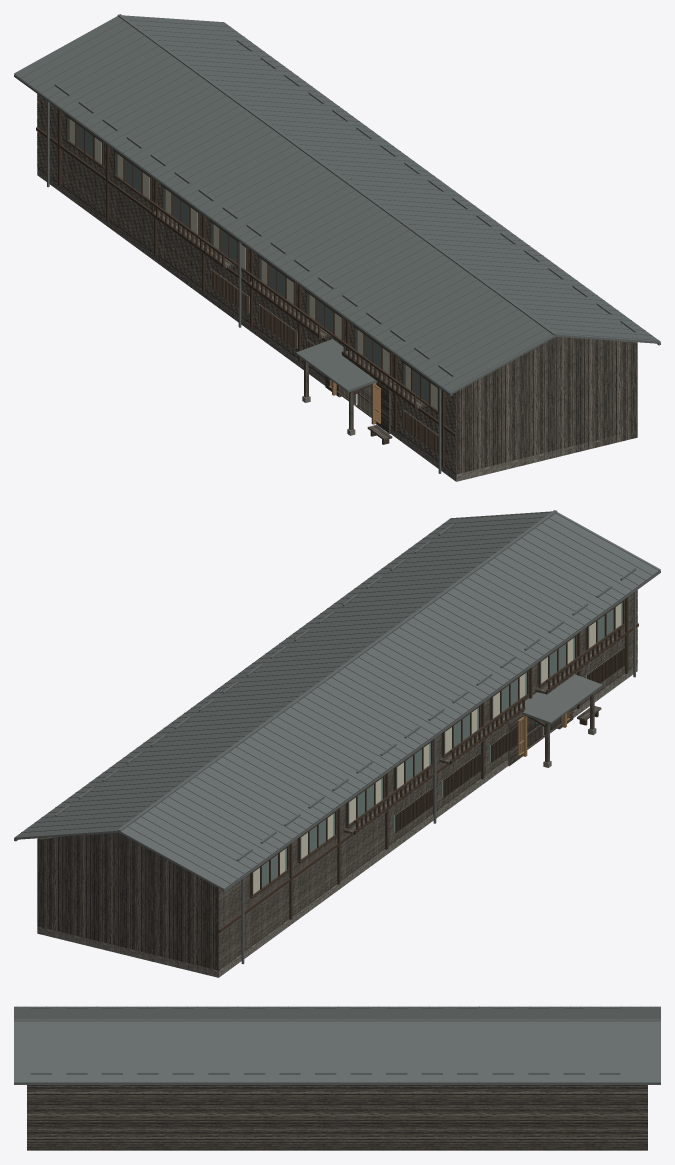
Rendered from onsen-v2.glb.
3 renders of one model, top to bottom at view 1: azimuth 30°, elevation 25°; view 2: azimuth 150°, elevation 25°; view 3: azimuth 270°, elevation 25°, orthographic. The views are drawn at different scales.
Visible parts, largest first — view 1: onsen_Onsen weathered sheet metal.006, onsen_Onsen horizontal cedar.006, onsen_Dark structural timber.024, onsen_Foundation granite.024, onsen_Onsen smoked window glass.006, onsen_Onsen warm inner curtains.006; view 2: onsen_Onsen weathered sheet metal.006, onsen_Onsen horizontal cedar.006, onsen_Dark structural timber.024, onsen_Foundation granite.024, onsen_Onsen smoked window glass.006, onsen_Onsen warm inner curtains.006; view 3: onsen_Onsen weathered sheet metal.006, onsen_Onsen horizontal cedar.006.
Boxes of the visible parts, x1,y1,x2,y2 form: onsen_Onsen weathered sheet metal.006: (14, 14, 660, 473); onsen_Onsen horizontal cedar.006: (37, 94, 637, 481); onsen_Dark structural timber.024: (36, 109, 456, 466); onsen_Foundation granite.024: (37, 168, 629, 481); onsen_Onsen smoked window glass.006: (68, 118, 438, 435); onsen_Onsen warm inner curtains.006: (69, 119, 437, 409); onsen_Onsen weathered sheet metal.006: (14, 510, 660, 964); onsen_Onsen horizontal cedar.006: (37, 590, 637, 977); onsen_Dark structural timber.024: (217, 597, 638, 954); onsen_Foundation granite.024: (37, 664, 637, 977); onsen_Onsen smoked window glass.006: (253, 602, 622, 894); onsen_Onsen warm inner curtains.006: (253, 603, 621, 893); onsen_Onsen weathered sheet metal.006: (14, 1006, 660, 1084); onsen_Onsen horizontal cedar.006: (27, 1085, 647, 1150).
Bounding box in the file's own units: 16.8 × 9.12 × 54.61.
10 materials, 2 textured.
